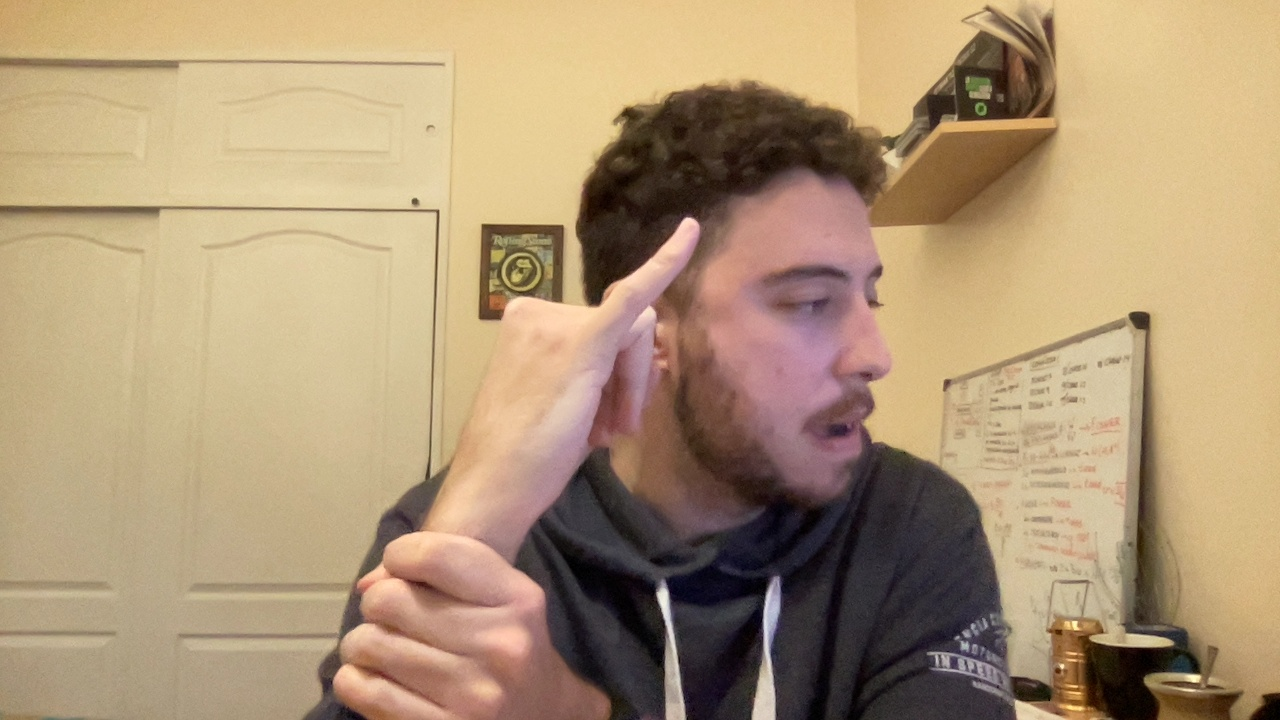menique: (448, 198, 712, 494)
